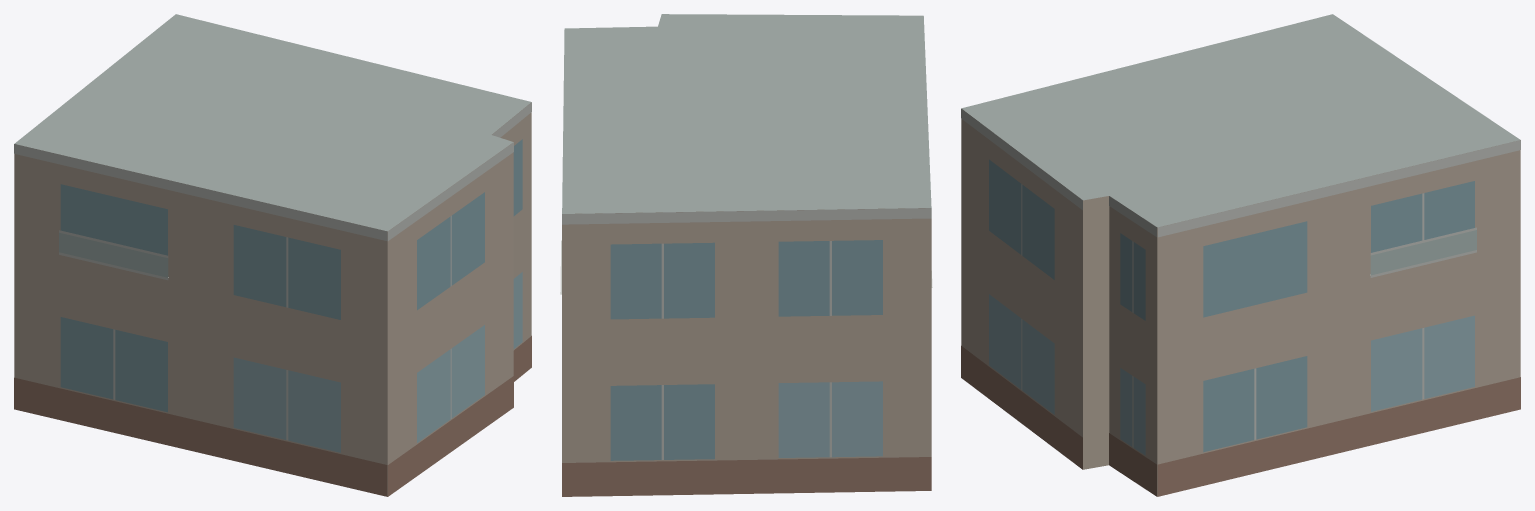
The model's file is survey-upis-32598538.glb.
The picture shows the model from 3 angles, left to right: view 1: azimuth 30°, elevation 25°; view 2: azimuth 150°, elevation 25°; view 3: azimuth 270°, elevation 25°; orthographic projection. The views are drawn at different scales.
Visible parts, largest first — view 1: survey-upis-32598538.tmp; view 2: survey-upis-32598538.tmp; view 3: survey-upis-32598538.tmp.
Part boxes in pixels (x1,y1,x2,y2): survey-upis-32598538.tmp: [14, 14, 531, 496]; survey-upis-32598538.tmp: [560, 14, 932, 496]; survey-upis-32598538.tmp: [961, 14, 1520, 496].
Bounding box in the file's own units: 11.05 × 6.5 × 12.25.
